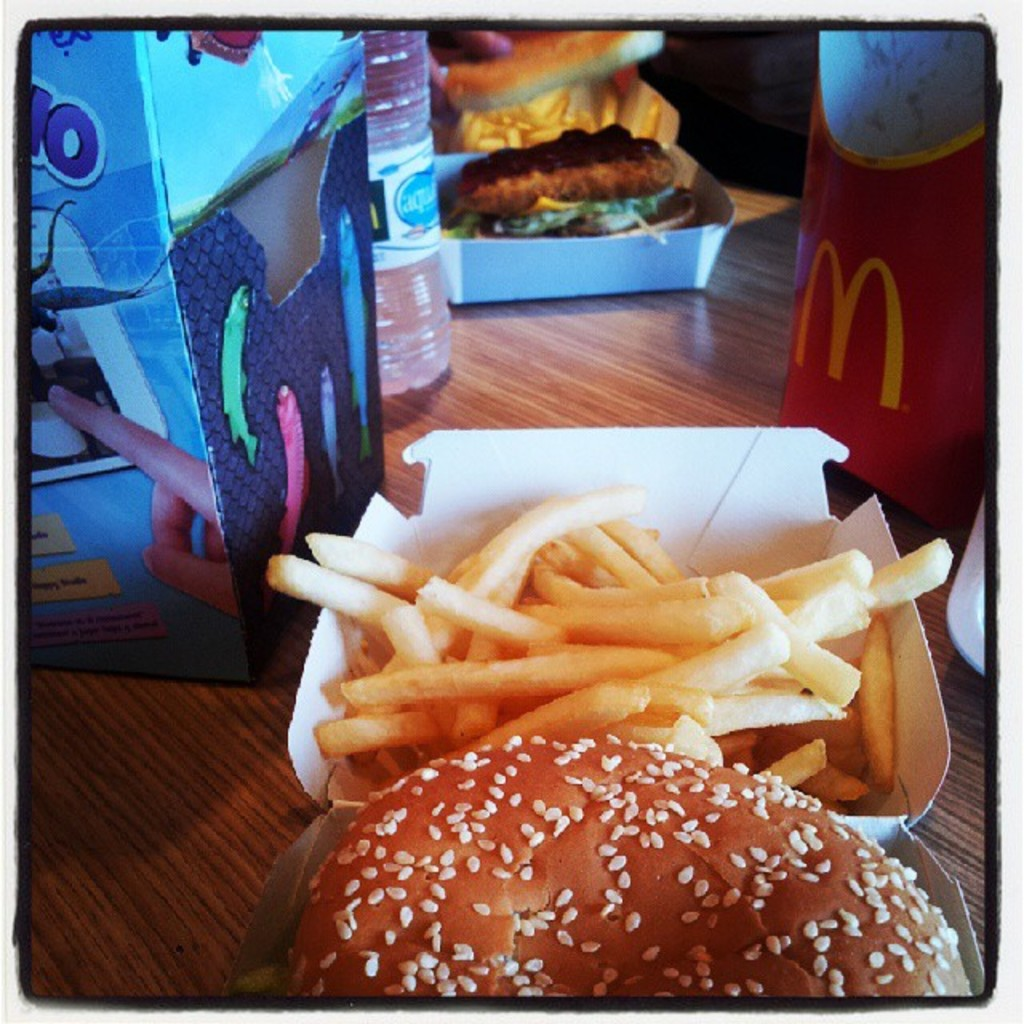French fries: (259, 476, 945, 800)
